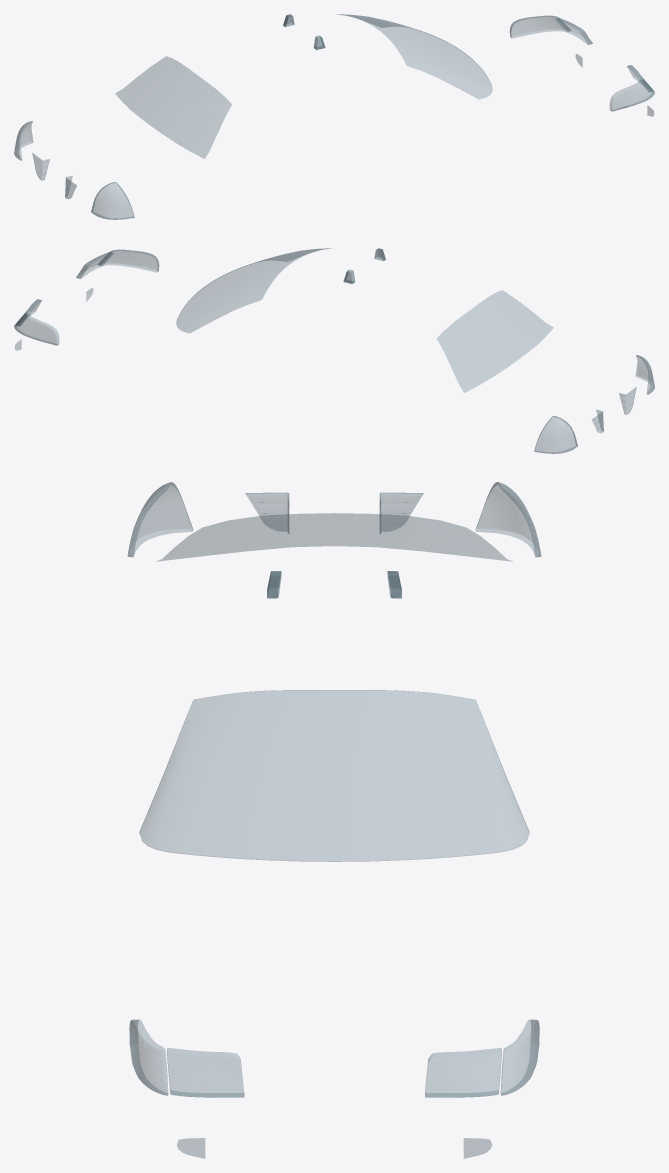
The picture shows the model from 3 angles, top to bottom: view 1: azimuth 30°, elevation 25°; view 2: azimuth 150°, elevation 25°; view 3: azimuth 270°, elevation 25°; orthographic projection. The views are drawn at different scales.
Visible parts, largest first — view 1: SM_FordCrown02_Glass_Ext1; view 2: SM_FordCrown02_Glass_Ext1; view 3: SM_FordCrown02_Glass_Ext1.
Boxes of the visible parts, x1=… form: SM_FordCrown02_Glass_Ext1: x1=14, y1=14, x2=654, y2=219; SM_FordCrown02_Glass_Ext1: x1=14, y1=248, x2=654, y2=453; SM_FordCrown02_Glass_Ext1: x1=127, y1=482, x2=541, y2=1158.
Bounding box in the file's own units: 5.14 × 1.23 × 1.64.
